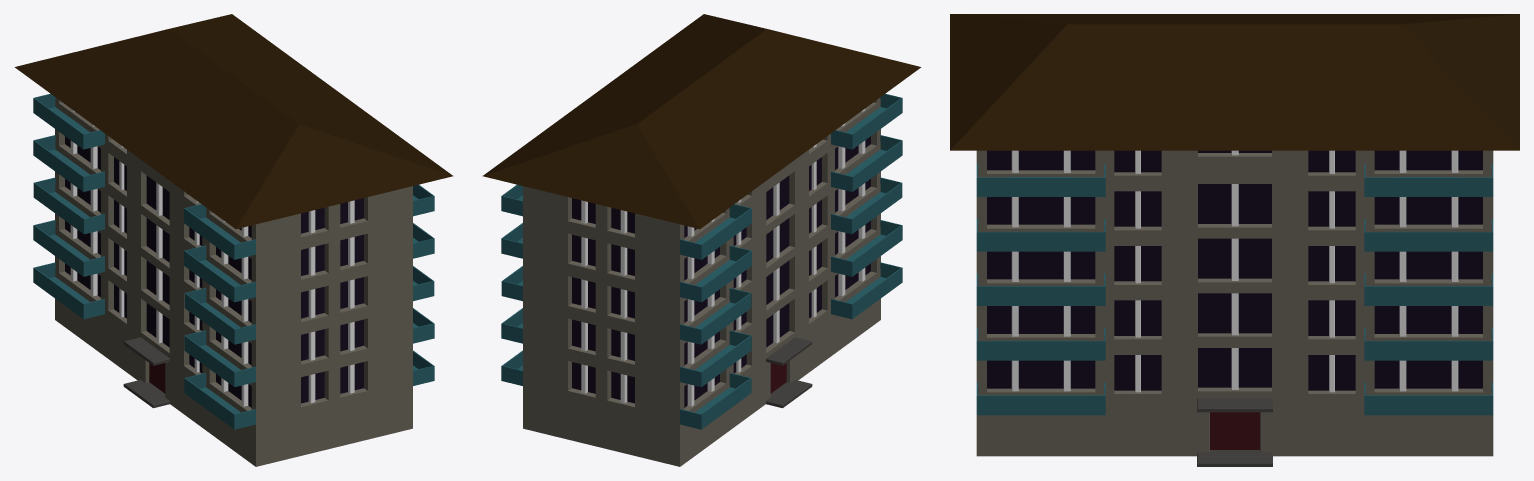
The model's file is House.fbx.
3 views of the same model, side by side, from view 1: azimuth 30°, elevation 25°; view 2: azimuth 150°, elevation 25°; view 3: azimuth 270°, elevation 25° (orthographic). The views are drawn at different scales.
Visible parts, largest first — view 1: Window; view 2: Window; view 3: Window.
Part boxes in pixels (bbox=[...]): Window: bbox=[14, 14, 453, 466]; Window: bbox=[482, 14, 921, 466]; Window: bbox=[950, 14, 1519, 466].
Size of the model in its own units: 51.02 by 89.92 by 66.63.
